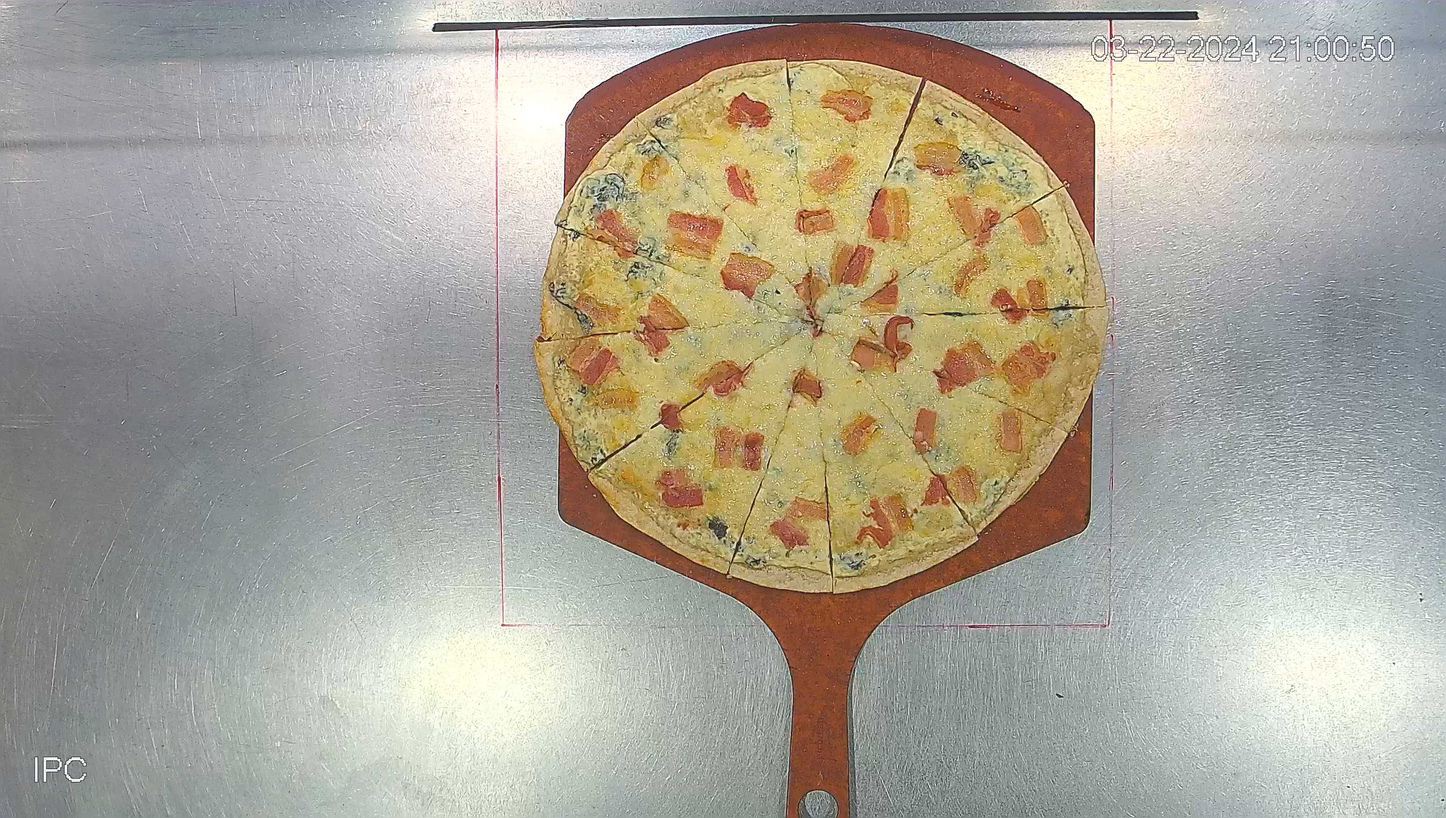pepporoni: (535, 55, 1116, 595)
